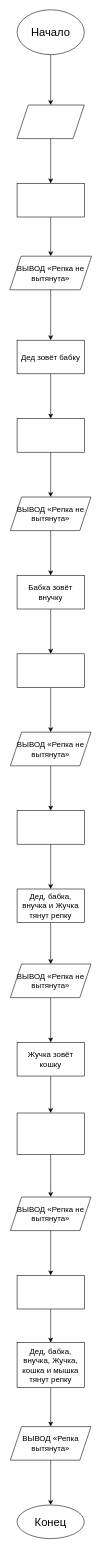
Image size: 101x1548. Some labels were removed from this diagram. The centre of each missing label's shape, as x and y in pixels:
Ввод репка: point (50, 121)
Внучка зовёт Жучку: point (50, 827)
Дед и бабка тянут репку: point (50, 435)
Дед тянет репку: point (50, 200)
Дед, бабка и внучка тянут репку: point (50, 670)
Дед, бабка, внучка, Жучка и кошка тянут репку: point (50, 1133)
Кошка зовёт мышку: point (50, 1292)
